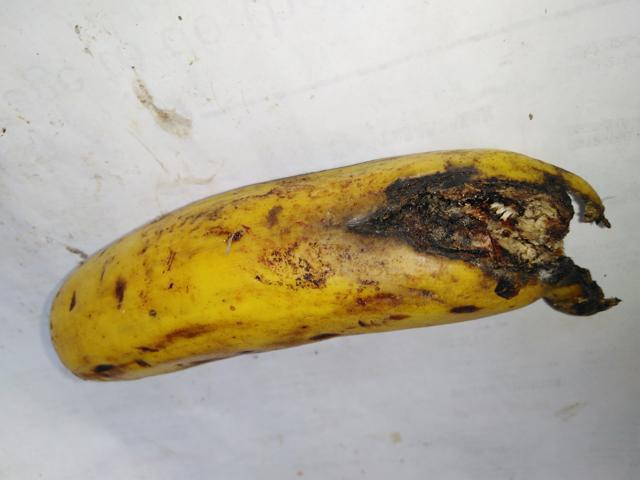rotten: (345, 113, 639, 362)
